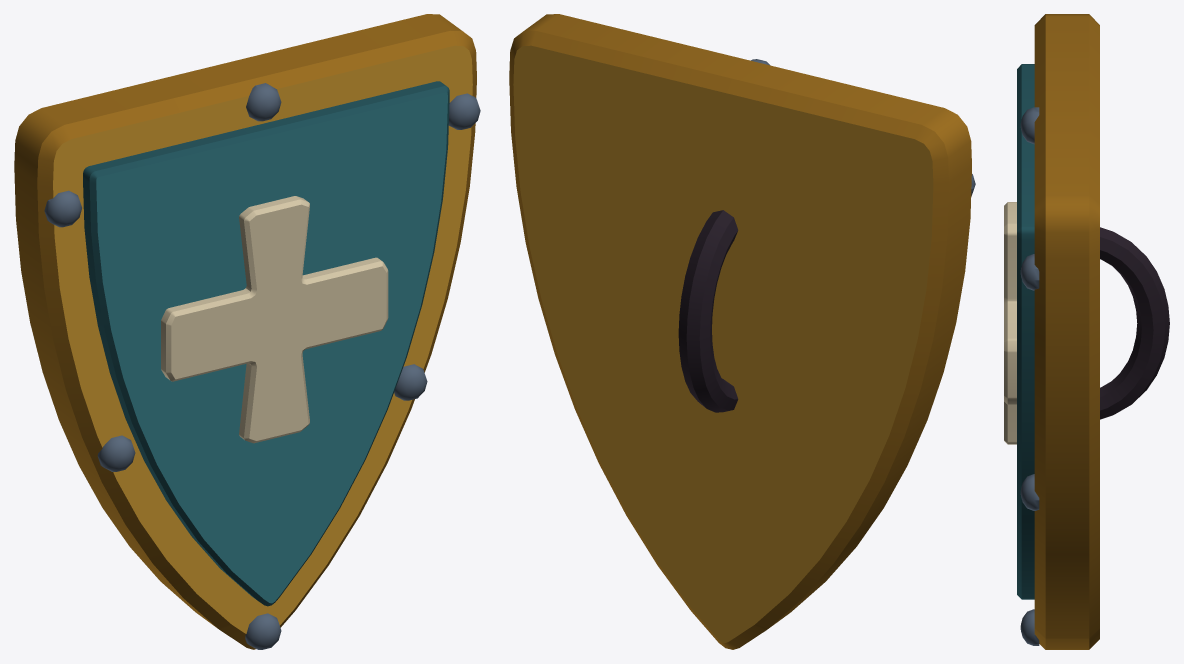
Rendered from HeaterShield_05.glb.
The picture shows the model from 3 angles, left to right: view 1: azimuth 30°, elevation 25°; view 2: azimuth 150°, elevation 25°; view 3: azimuth 270°, elevation 25°; orthographic projection. The views are drawn at different scales.
Visible parts, largest first — view 1: HeaterShield_05; view 2: HeaterShield_05; view 3: HeaterShield_05.
Boxes of the visible parts, x1,y1,x2,y2 form: HeaterShield_05: (14,14,480,649); HeaterShield_05: (509,14,975,649); HeaterShield_05: (1004,14,1169,649).
Size of the model in its own units: 2.21 by 2.74 by 0.76.
